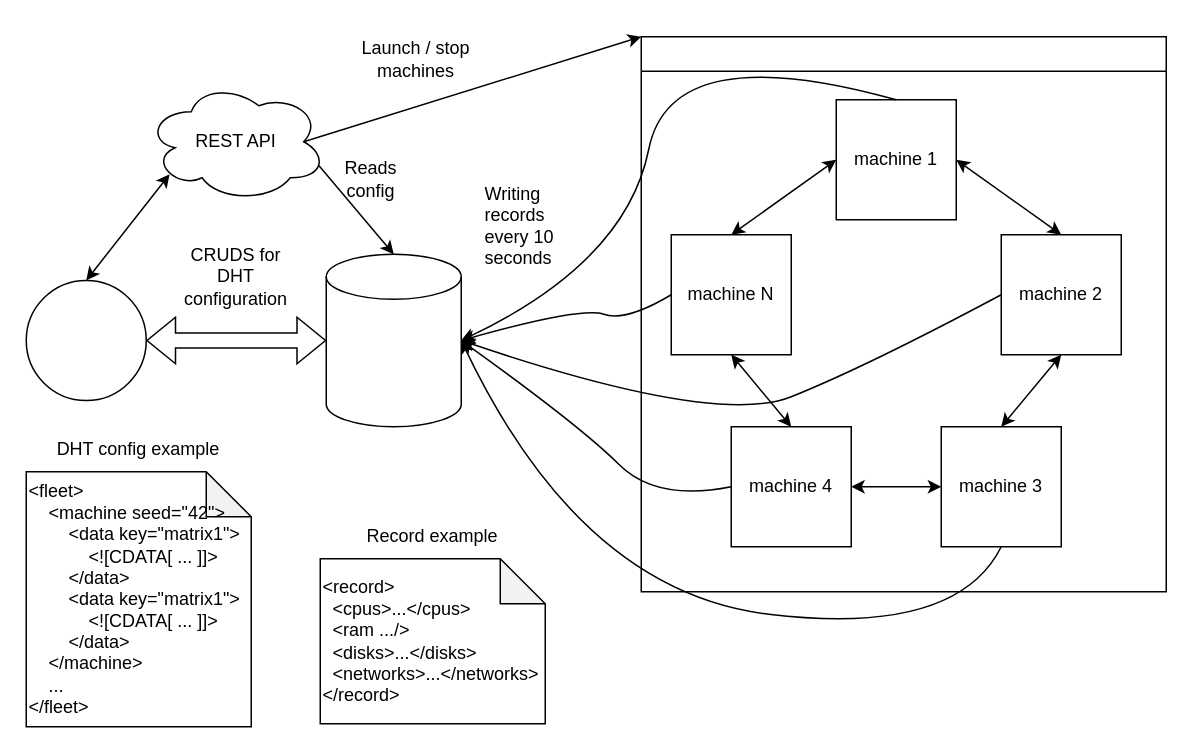
The diagram is 1193 pixels wide and 753 high, and some of its shapes have lost their labels. Each missing label, with the box of its shape:
BaseX: (325, 253, 461, 427)
Kademlia DHT: (640, 35, 1166, 592)
XForms: (25, 279, 146, 400)
